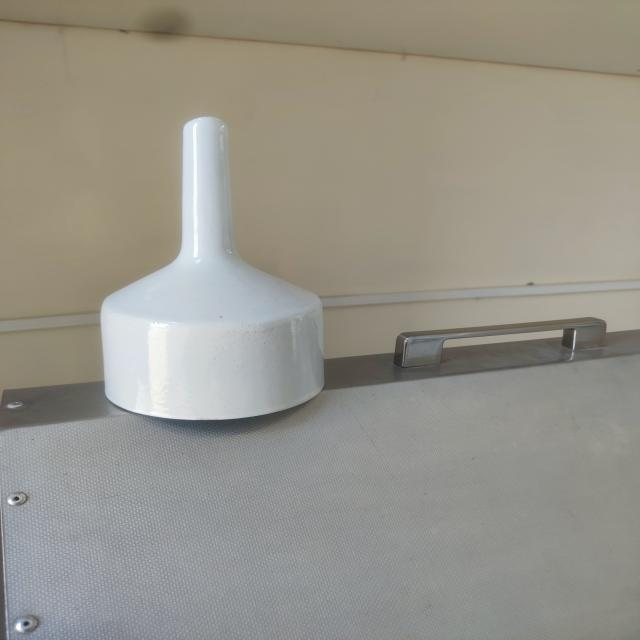Buchner_Funnel: (62, 93, 369, 448)
